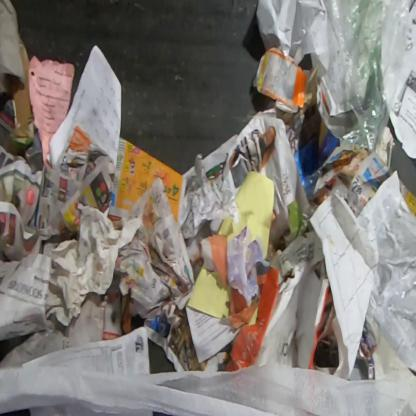cardboard: (224, 229, 330, 373), (0, 32, 39, 156), (252, 46, 308, 115)
soft_plastic: (315, 0, 415, 154), (225, 224, 266, 306)
